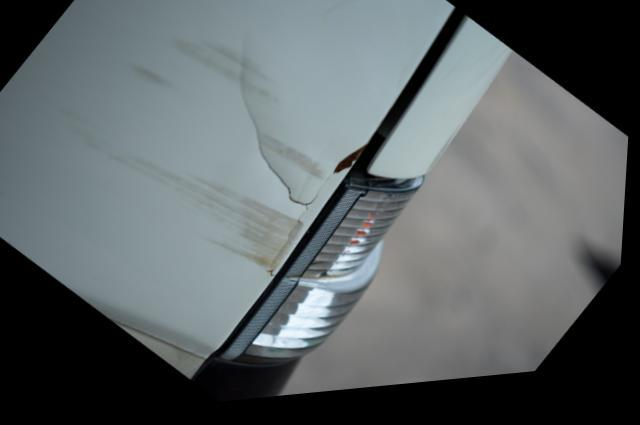crack: (244, 94, 324, 214)
scratch: (61, 39, 309, 283), (265, 134, 331, 185)
